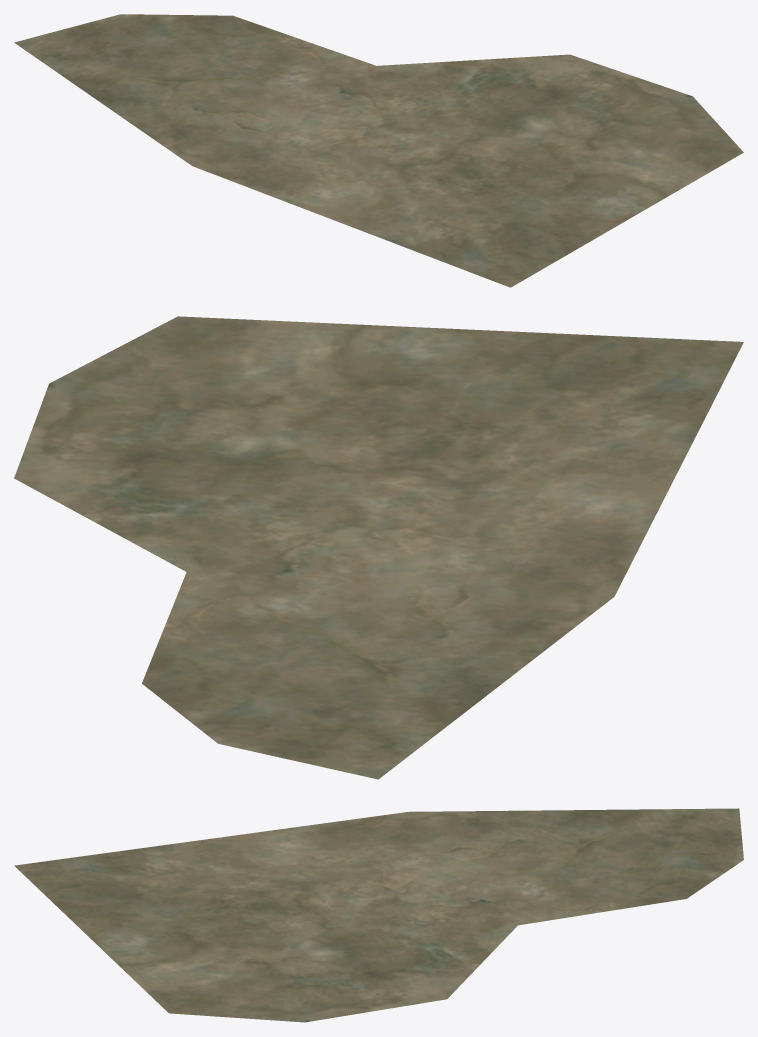
Rendered from OVERHILL_A_01_GROUND_25.fbx.
The picture shows the model from 3 angles, top to bottom: view 1: azimuth 30°, elevation 25°; view 2: azimuth 150°, elevation 25°; view 3: azimuth 270°, elevation 25°; orthographic projection. The views are drawn at different scales.
Parts seen in each view (by area): view 1: OVERHILL_A_01_GROUND_25; view 2: OVERHILL_A_01_GROUND_25; view 3: OVERHILL_A_01_GROUND_25.
Part boxes in pixels (x1=…): OVERHILL_A_01_GROUND_25: x1=14, y1=14, x2=743, y2=287; OVERHILL_A_01_GROUND_25: x1=14, y1=316, x2=743, y2=779; OVERHILL_A_01_GROUND_25: x1=14, y1=808, x2=743, y2=1022.
Size of the model in its own units: 17707 by 0.00416 by 25524.
Materials: 1 (1 with a texture image).
